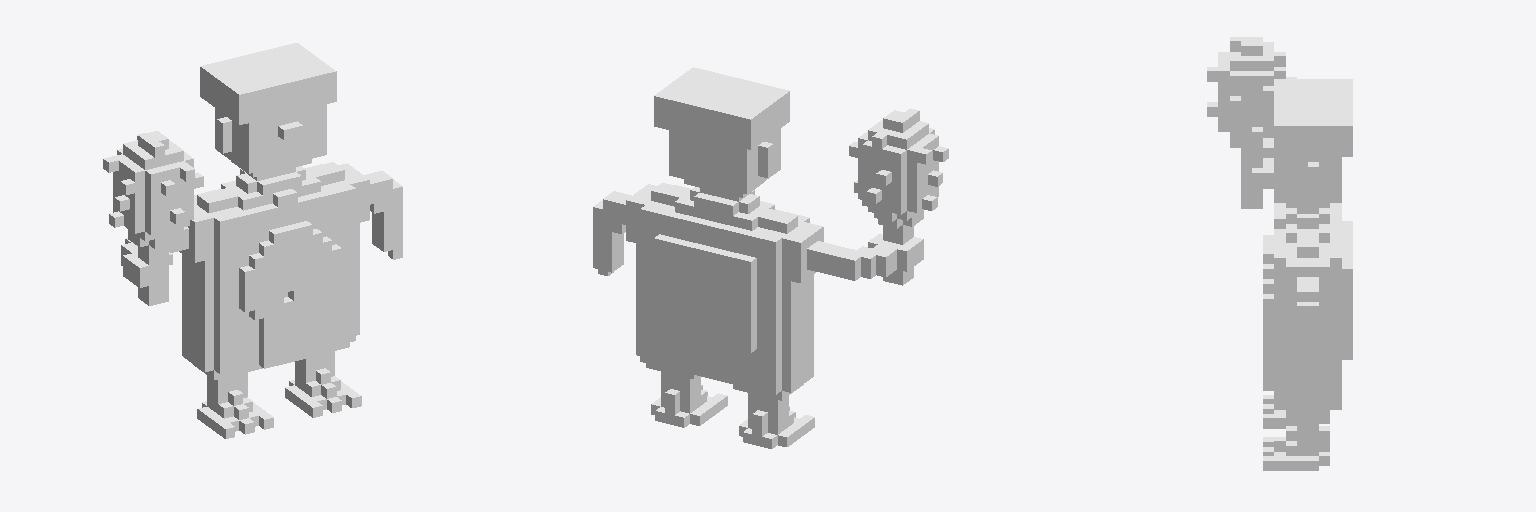
The model's file is Troll_Fire.obj.
3 renders of one model, left to right at view 1: azimuth 30°, elevation 25°; view 2: azimuth 150°, elevation 25°; view 3: azimuth 270°, elevation 25°, orthographic.
Visible parts, largest first — view 1: object 1; view 2: object 1; view 3: object 1.
Part boxes in pixels (left/top/right/bottom): object 1: left=103, top=43, right=402, bottom=438; object 1: left=593, top=67, right=948, bottom=448; object 1: left=1207, top=37, right=1352, bottom=470.
Size of the model in its own units: 3.2 by 3.3 by 1.3.